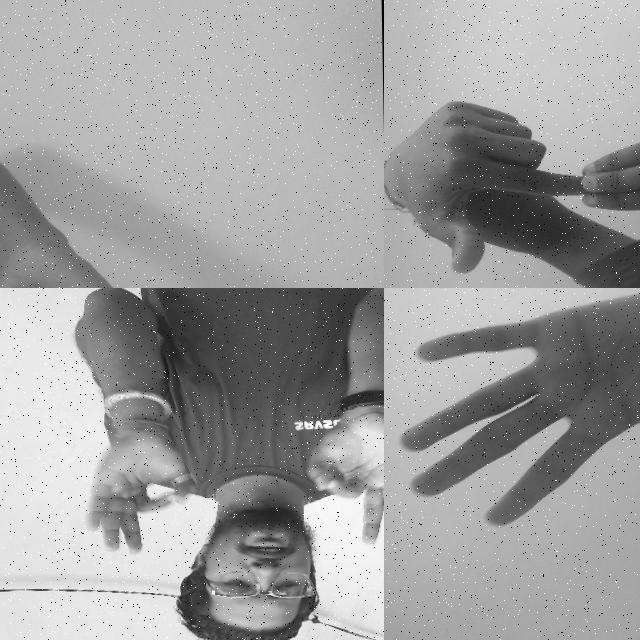Five Fathers: (384, 82, 640, 286)
Moutza: (394, 288, 640, 536)
Okay: (76, 399, 200, 566), (0, 214, 201, 288), (297, 396, 384, 550)
